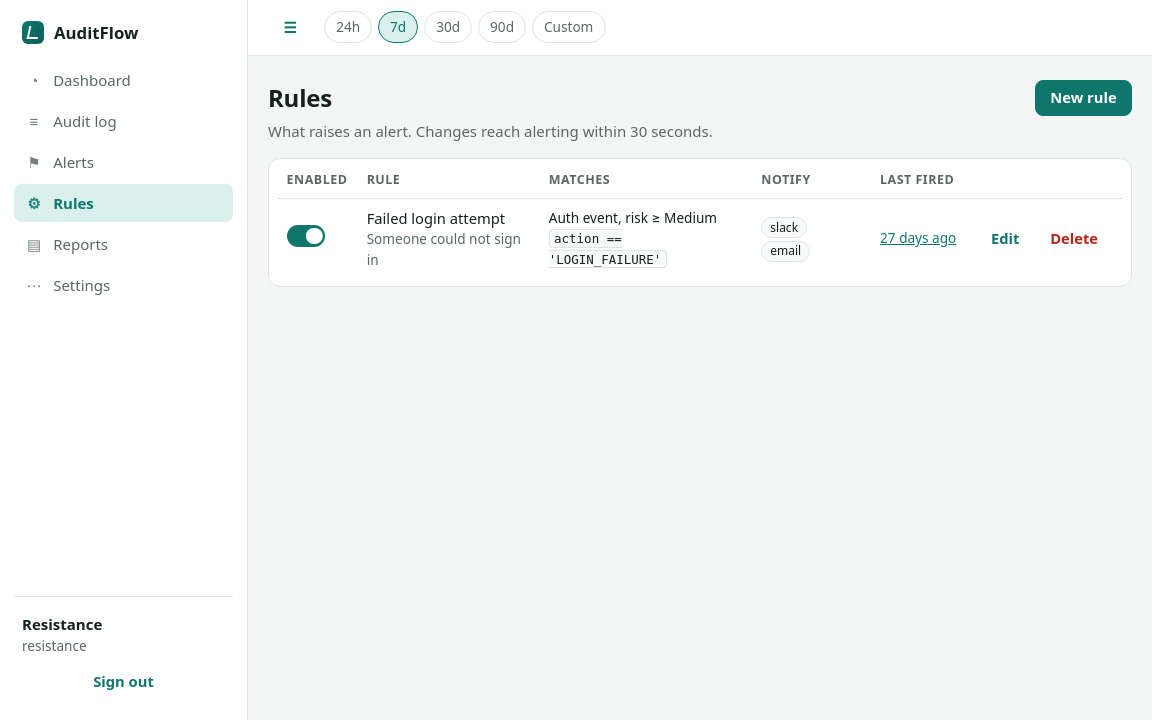
Test: rules › delete asks first and explains that history keeps the alerts
The image size is (1152, 720).
Click the button "Delete" at (1074, 239), box [1035,221,1114,256]
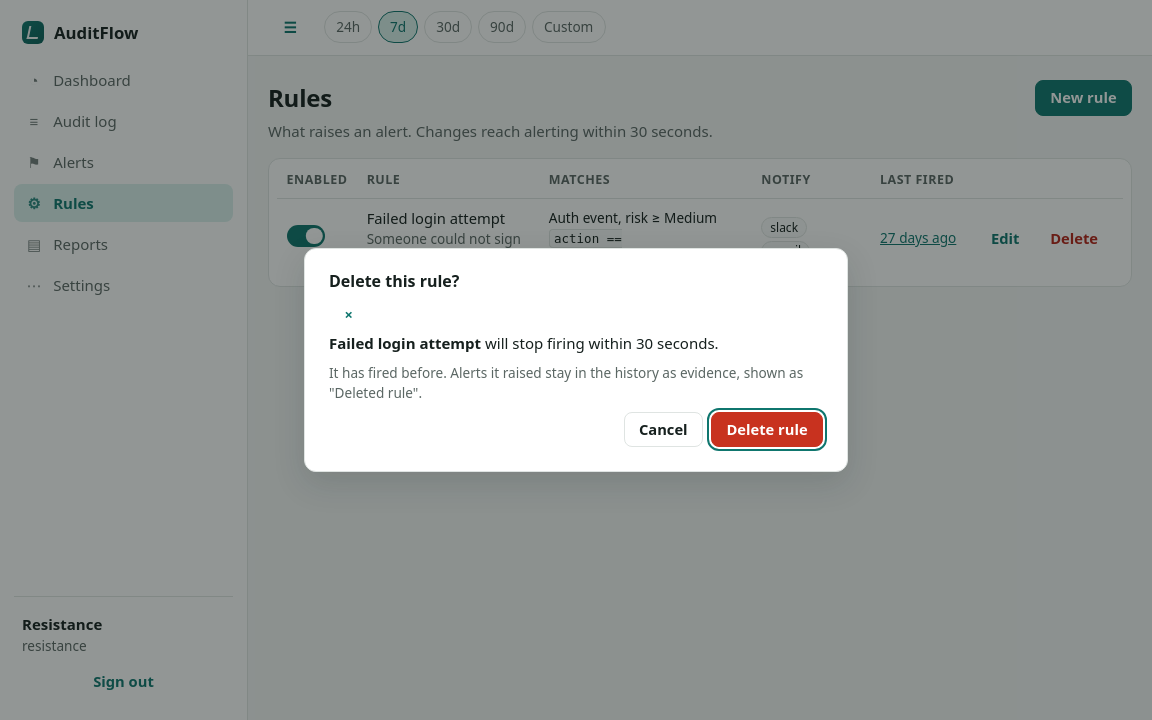
Now the text "It has fired before" is shown, box [329,363,450,382]
Now the text "stay in the history as evidence" is shown, box [329,363,803,402]
Click the button "Delete rule" at (767, 429), box [711,412,823,447]
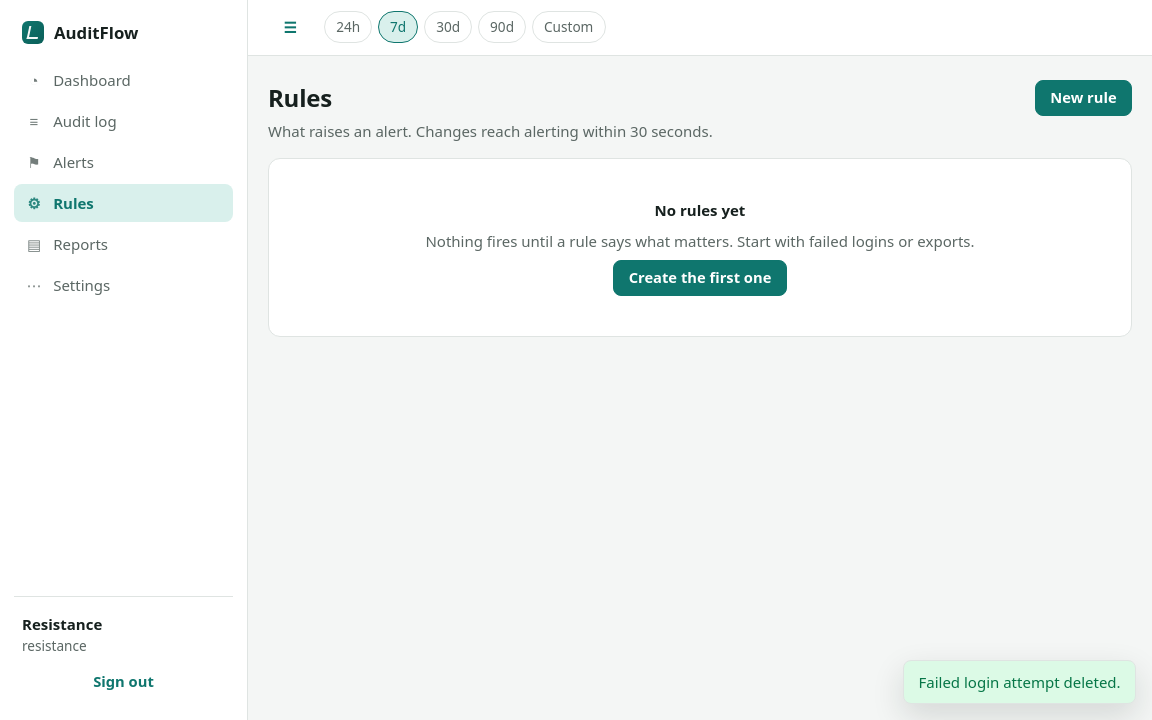
Now the text "No rules yet" is shown, box [655,200,745,220]
